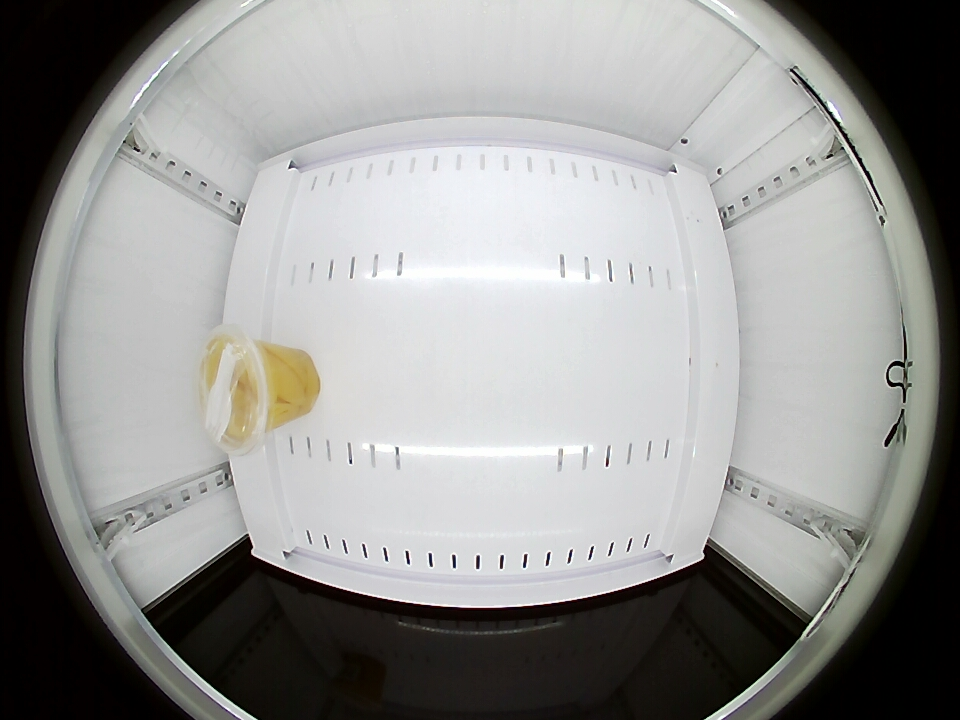xianguolao: (199, 329, 278, 453)
